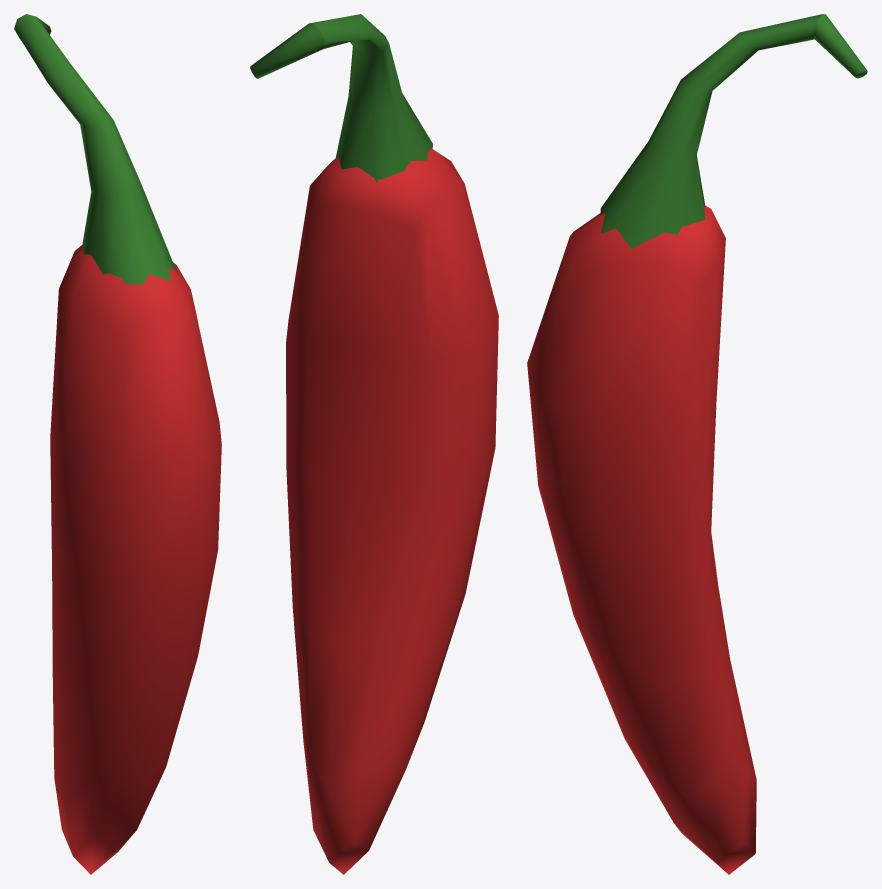
File: Pimenta.FBX
3 renders of one model, left to right at view 1: azimuth 30°, elevation 25°; view 2: azimuth 150°, elevation 25°; view 3: azimuth 270°, elevation 25°, orthographic. The views are drawn at different scales.
Visible parts, largest first — view 1: Pimenta; view 2: Pimenta; view 3: Pimenta.
Boxes of the visible parts, x1,y1,x2,y2 form: Pimenta: [14, 14, 221, 874]; Pimenta: [250, 14, 498, 874]; Pimenta: [527, 14, 867, 874].
Size of the model in its own units: 1.24 by 6.36 by 2.31.
